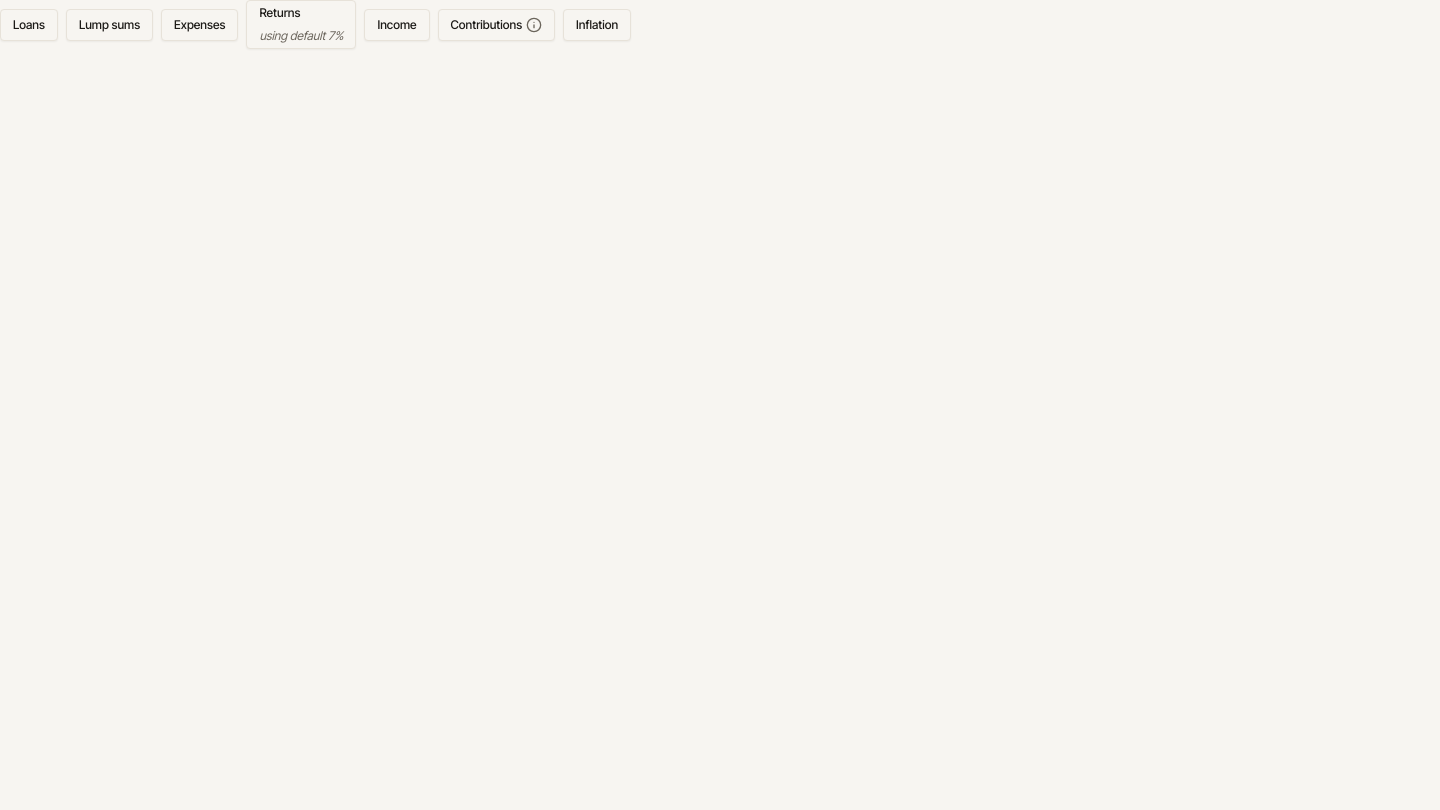
Test: LeverBar › clicking the Contributions pill opens its popover
Click the button "Contributions" at (496, 24), box [438, 8, 555, 40]
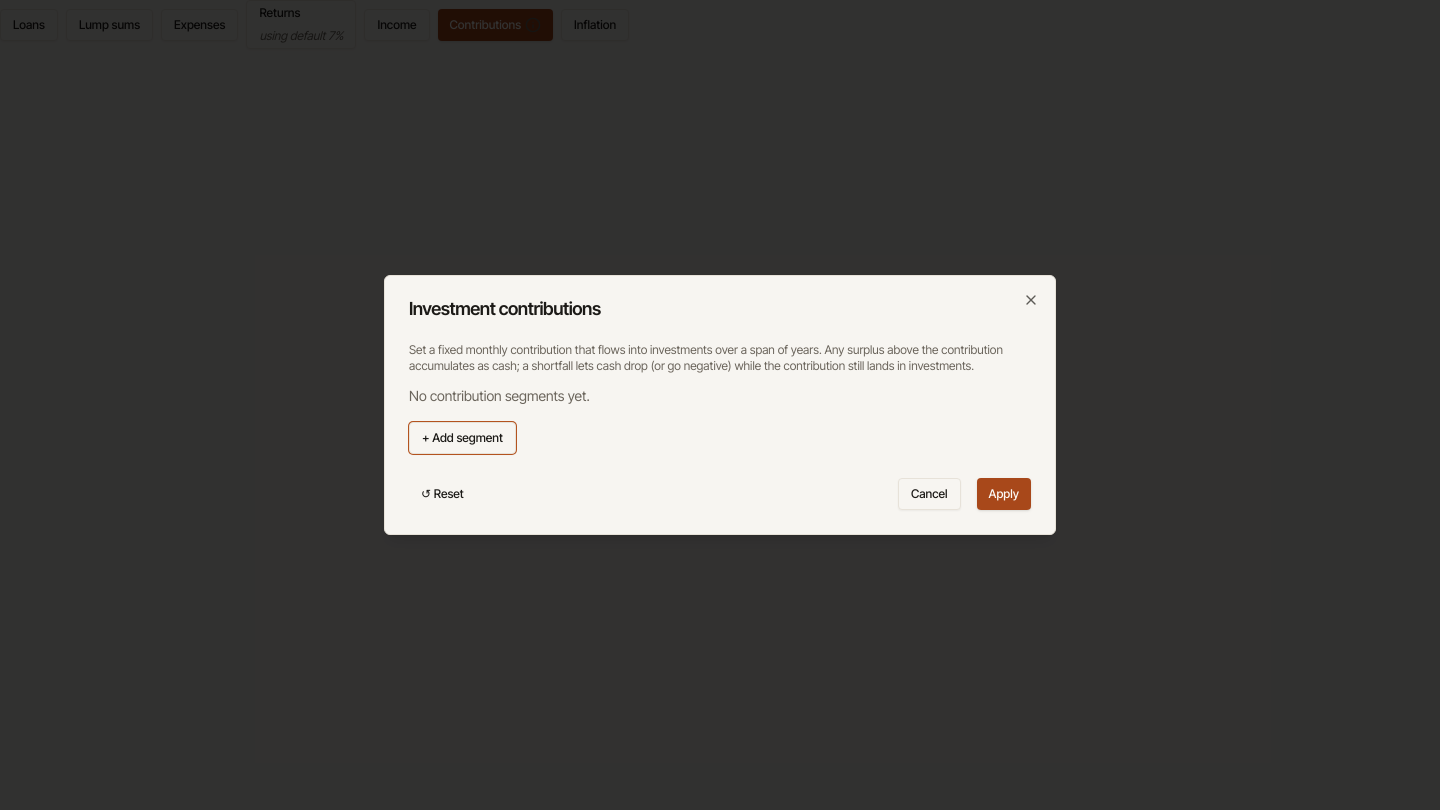
Check: the dialog "Investment contributions" is shown, box [384, 275, 1056, 535]
